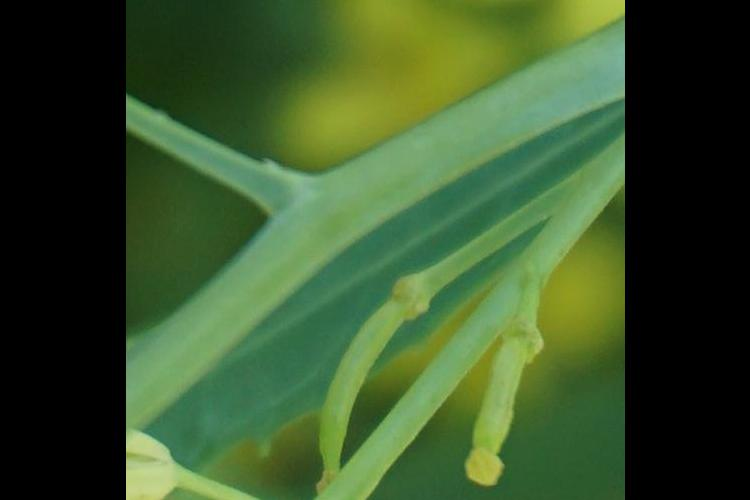pod: (292, 267, 443, 500), (448, 269, 565, 497)
